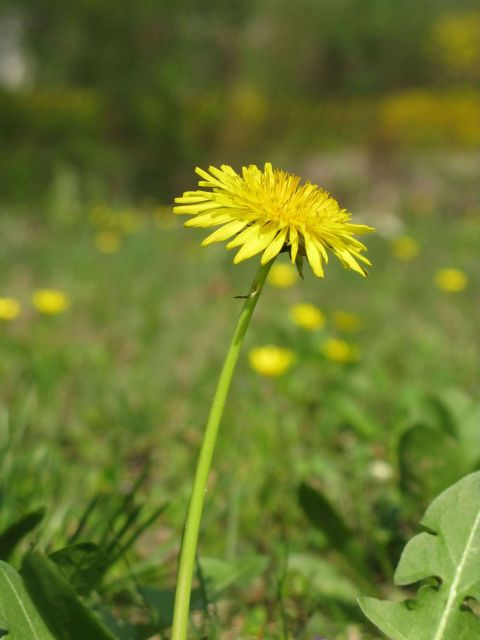dandelion: (193, 166, 377, 266)
